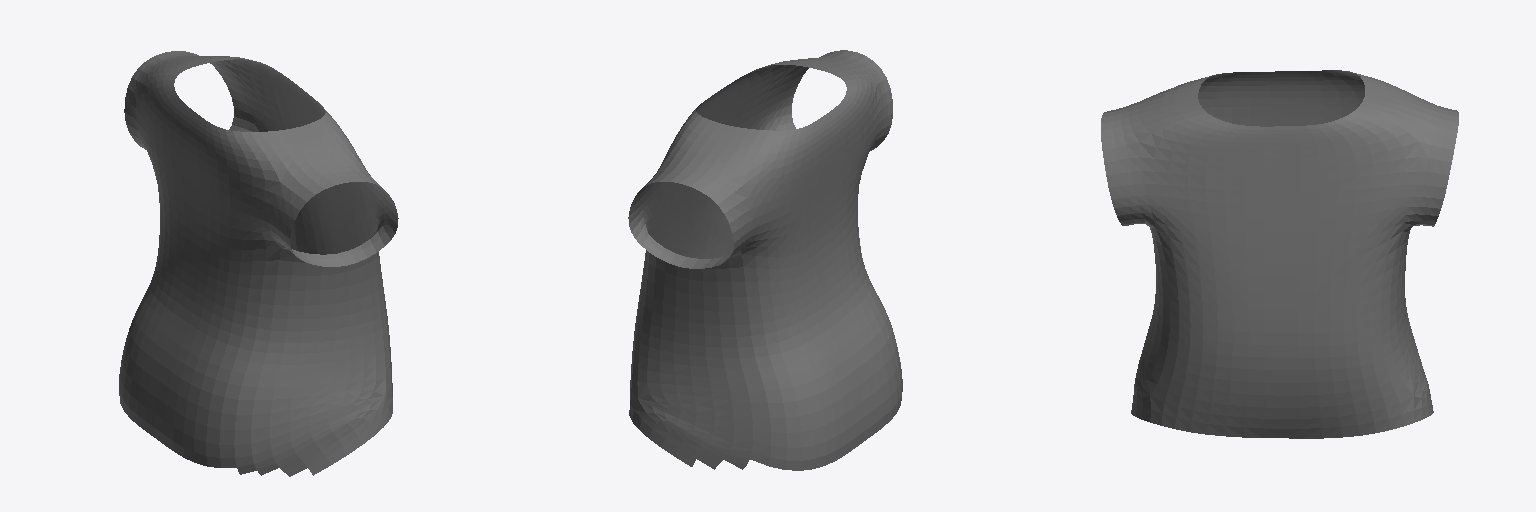
Rendered from Torso.obj.
The picture shows the model from 3 angles: view 1: azimuth 30°, elevation 25°; view 2: azimuth 150°, elevation 25°; view 3: azimuth 270°, elevation 25°; orthographic projection.
Parts seen in each view (by area): view 1: human_maya_to_blender.001; view 2: human_maya_to_blender.001; view 3: human_maya_to_blender.001.
Boxes of the visible parts, <box> form: human_maya_to_blender.001: <box>119,51,398,476</box>; human_maya_to_blender.001: <box>628,50,902,470</box>; human_maya_to_blender.001: <box>1101,70,1458,438</box>.
Bounding box in the file's own units: 0.5056 × 0.7967 × 0.7928.